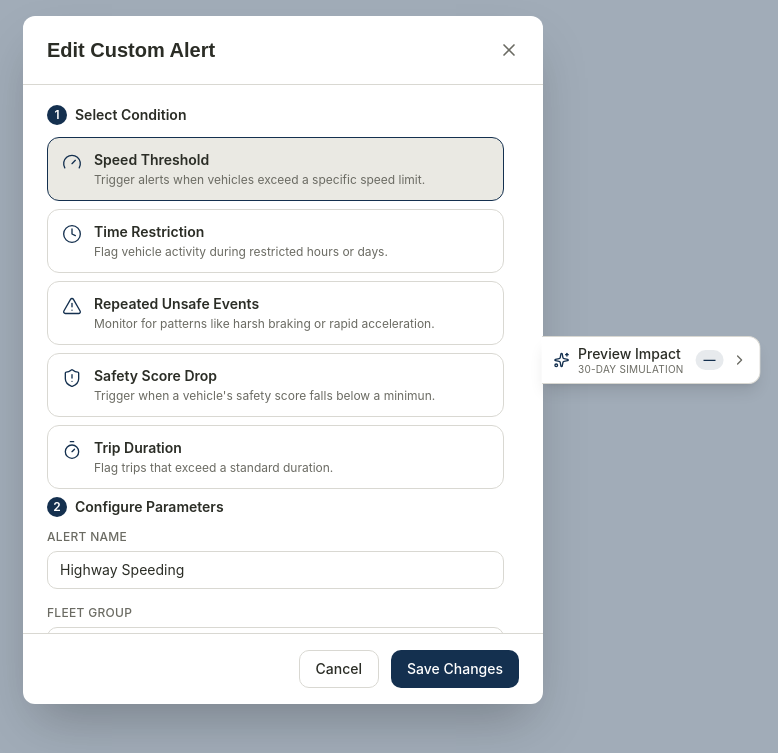
Test: EditAlertRuleModal › shows Saving… and disables the button while submitting
Click the button "Save Changes": [455, 669] box [391, 650, 519, 688]
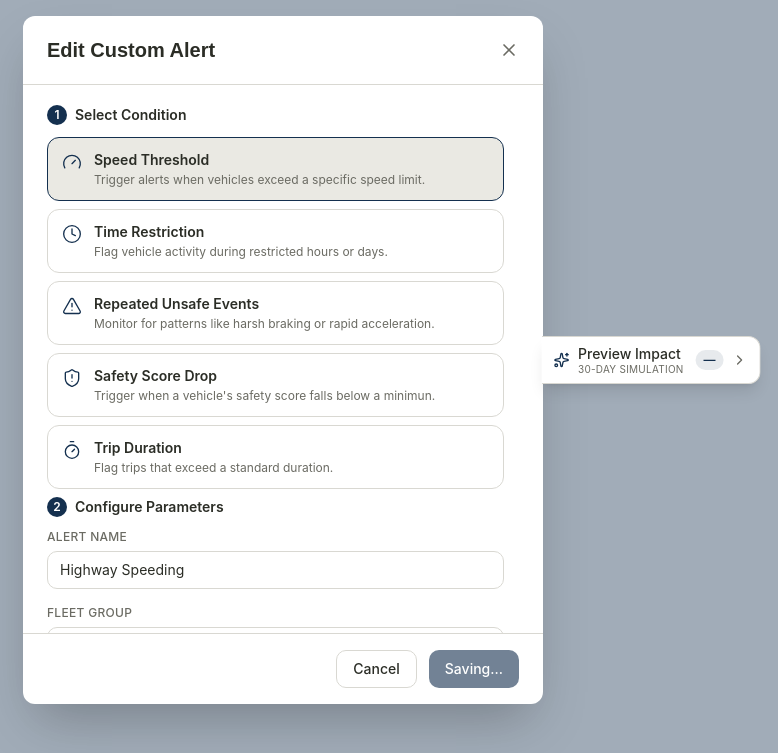
Now the button "Saving…" is disabled, box [429, 650, 519, 688]
